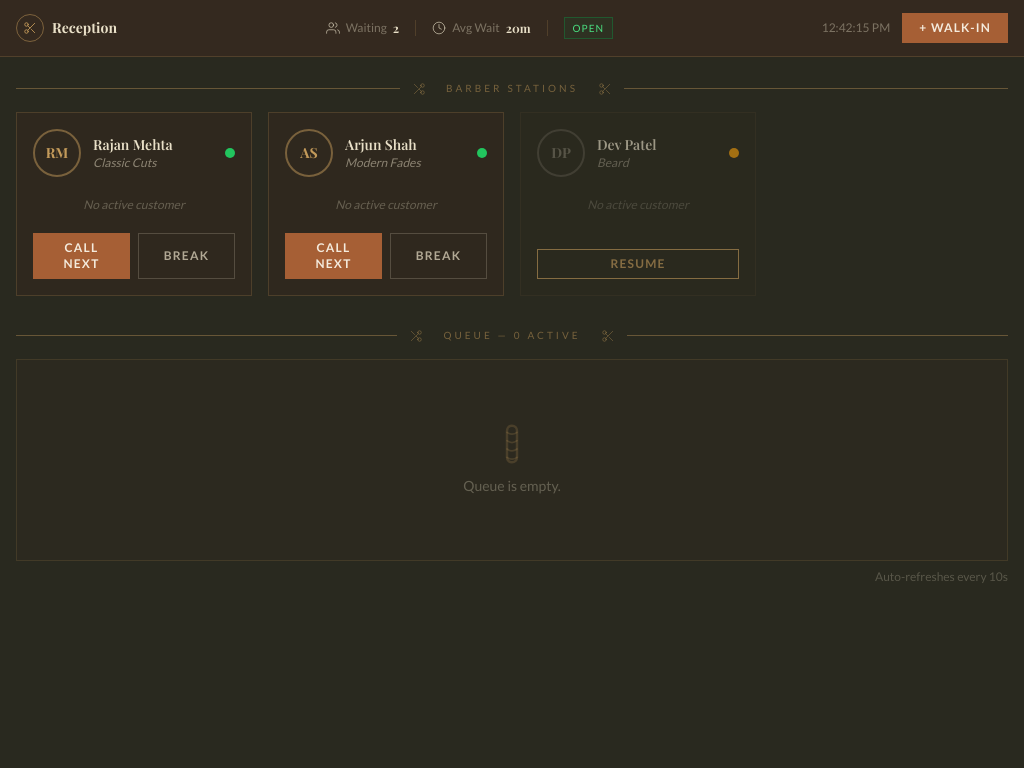
Test: ReceptionPage — walk-in modal › shows validation error for empty name on submit
This screenshot has width=1024, height=768.
Click the button "+ Walk-In": (955, 28) [902,13,1008,43]
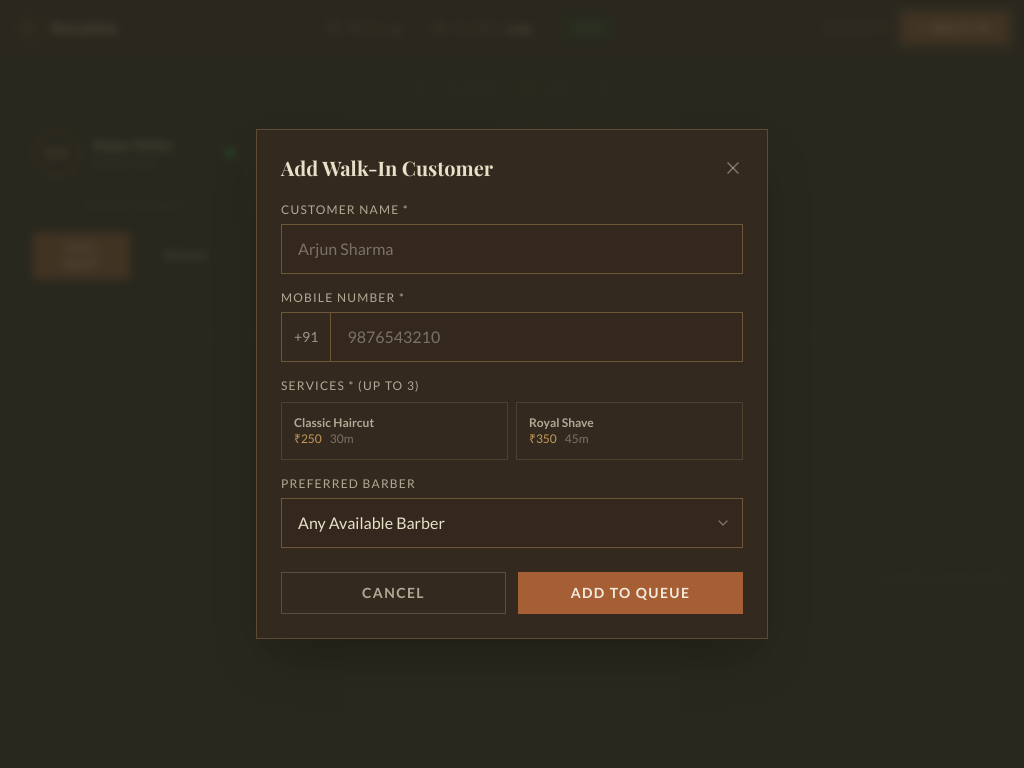
Now the dialog is shown
Click the button "Add to Queue": (630, 593) [518,572,743,614]
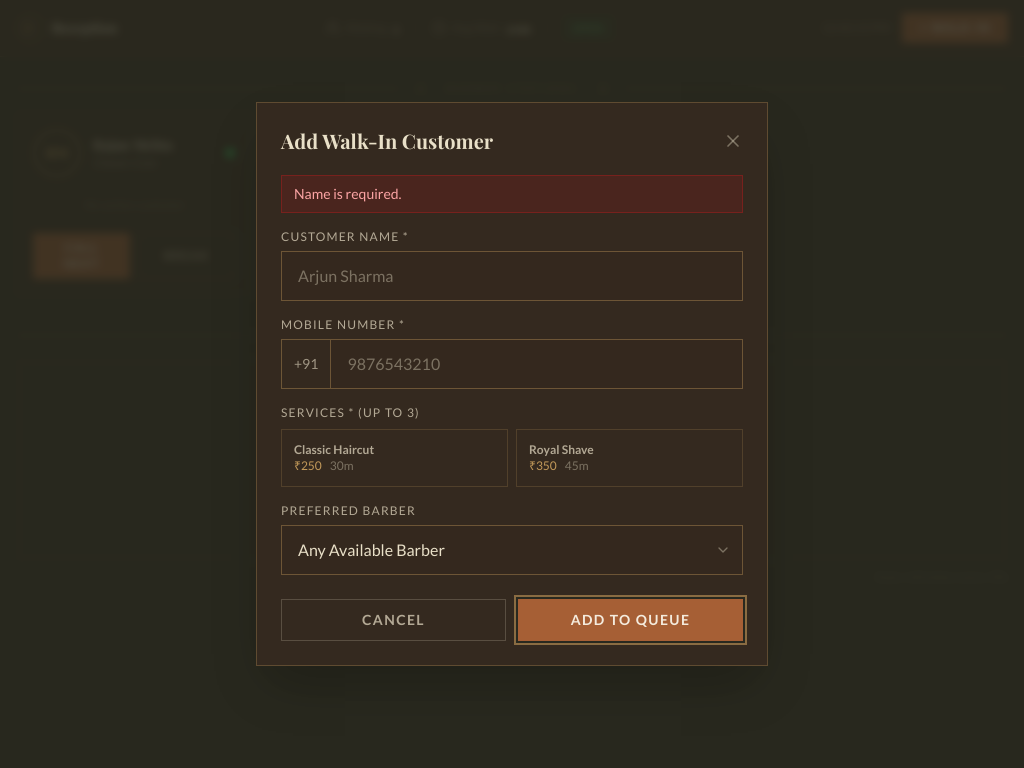
Now the message shows "Name is required", box [294,185,402,202]
